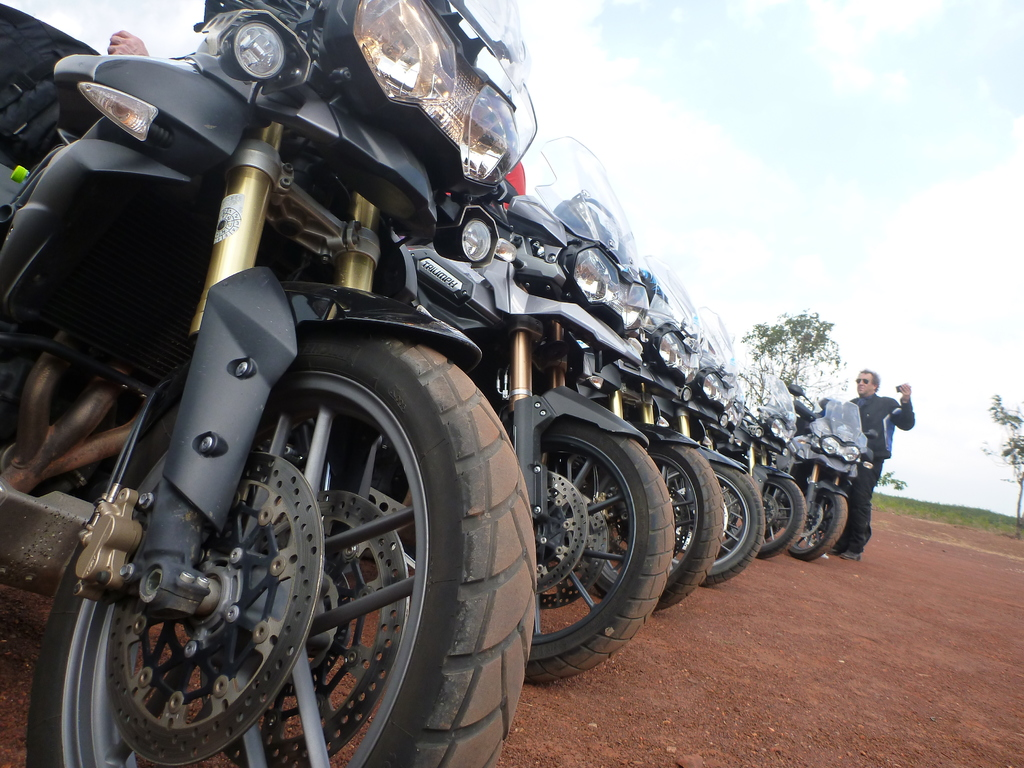Motorcycle: (0, 0, 878, 767)
